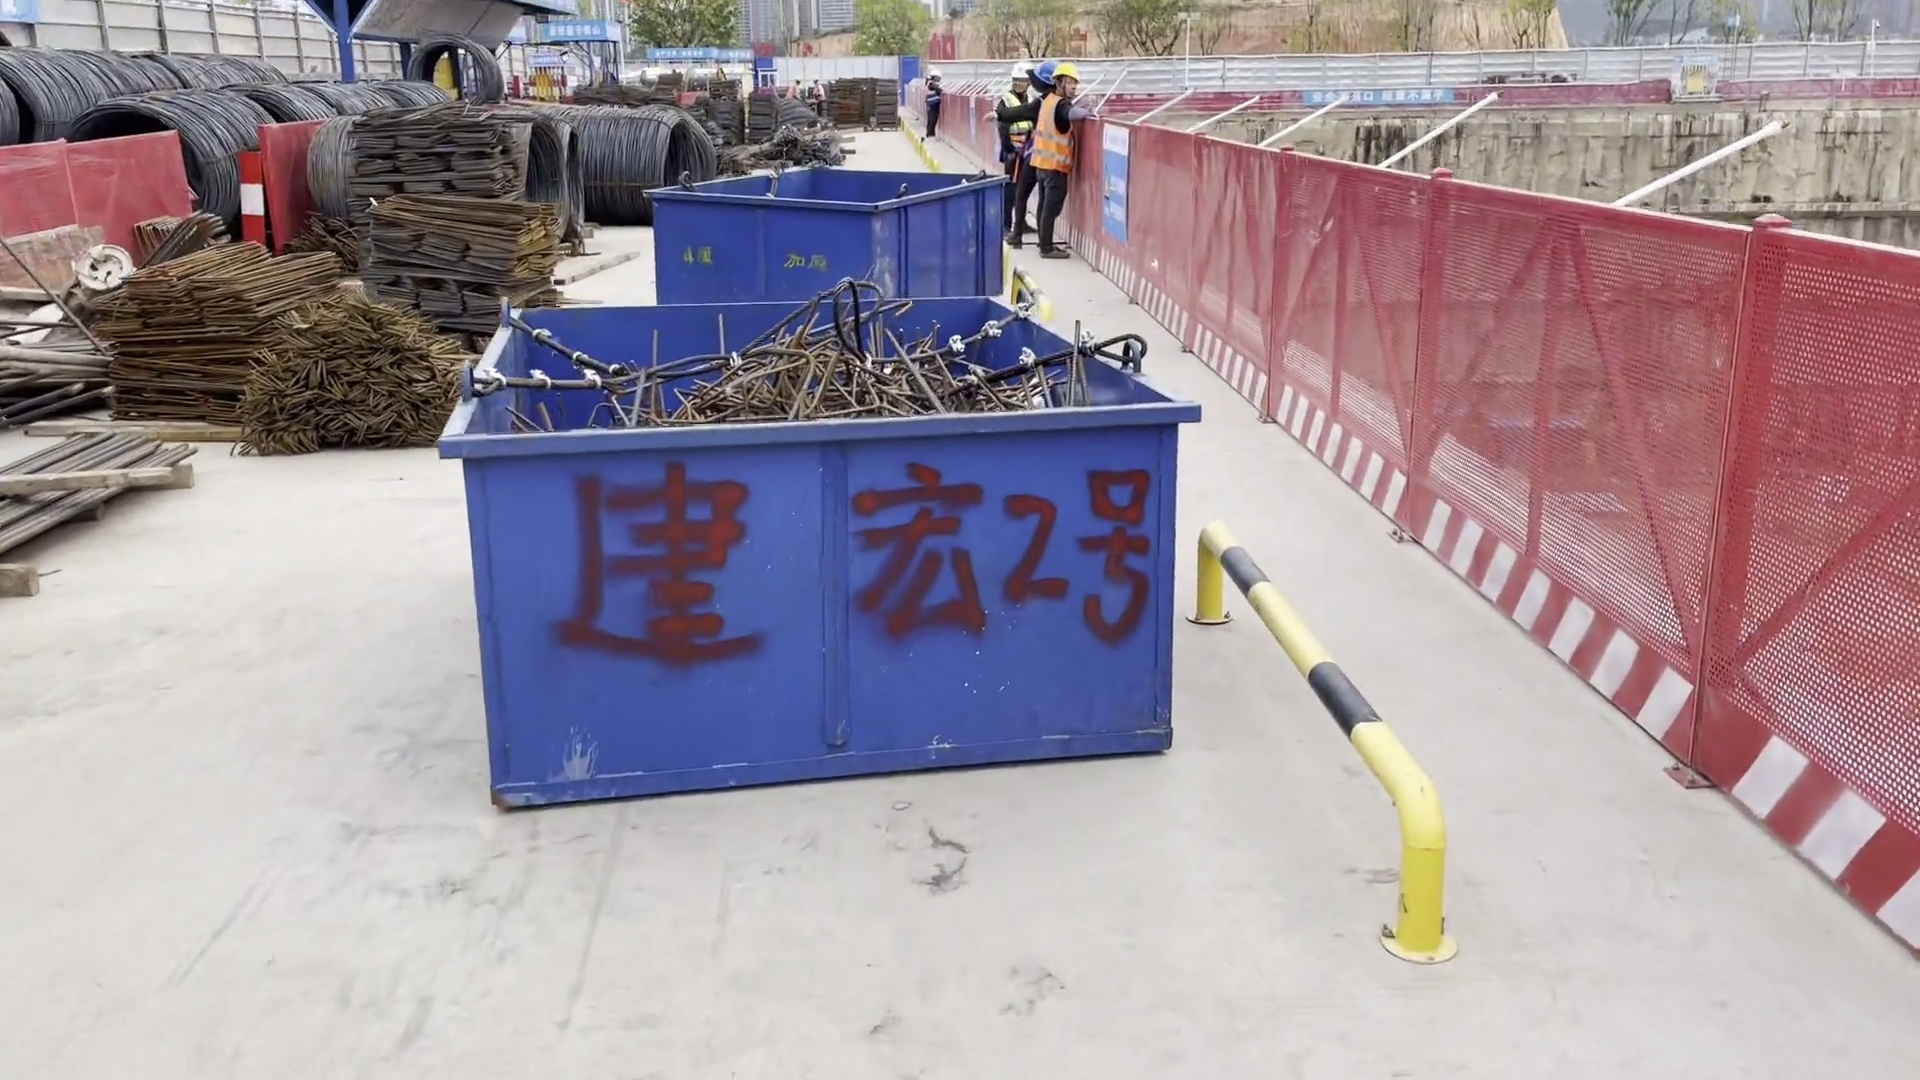fence: (928, 91, 1920, 952), (1097, 76, 1920, 115)
helmet: (1056, 64, 1081, 85), (1038, 61, 1057, 82), (1010, 62, 1030, 79), (930, 69, 942, 78), (795, 78, 801, 83), (812, 78, 817, 82)
hopper: (433, 272, 1203, 805), (640, 153, 1026, 317)
person: (1030, 65, 1088, 264), (989, 63, 1033, 246), (923, 71, 944, 141), (780, 79, 805, 101), (809, 79, 828, 101)
slogan: (1315, 82, 1453, 101)
vest: (1033, 100, 1075, 171), (1000, 92, 1030, 146), (927, 80, 939, 103), (785, 84, 800, 100), (813, 85, 825, 101)
